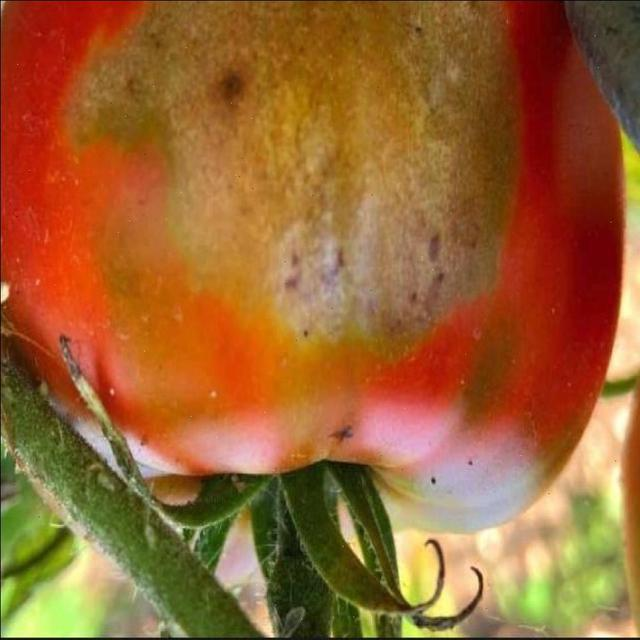Sunscald Fruit: (50, 0, 347, 268)
